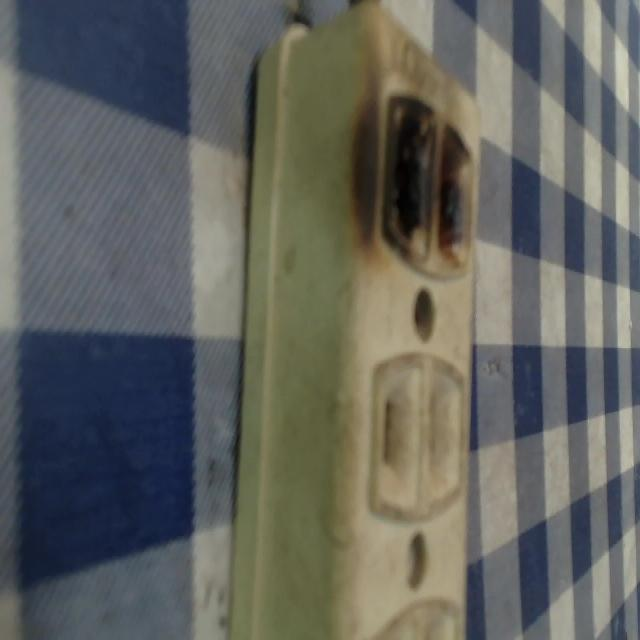-: (370, 71, 478, 297)
